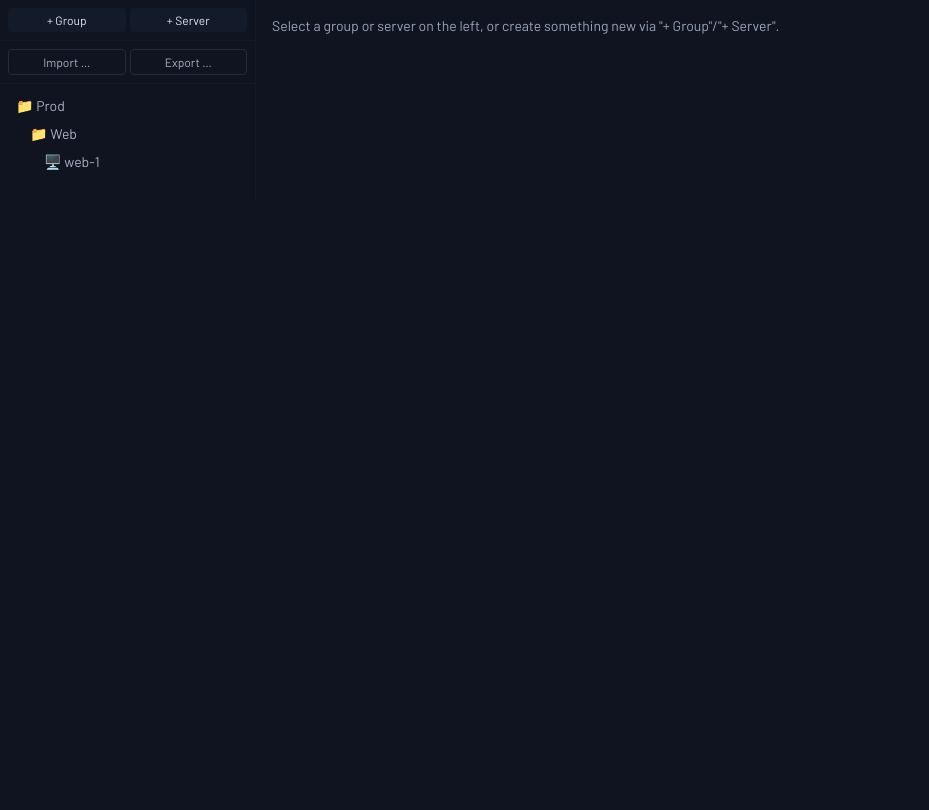
Test: ManagementView: new items in the current folder (issue #49) › + Server with a server selected preselects that server's folder
What coordinates should you click on to do the following:
click the button "🖥️ web-1"
I would click on:
 (128, 162)
Its box is [8,148,247,176].
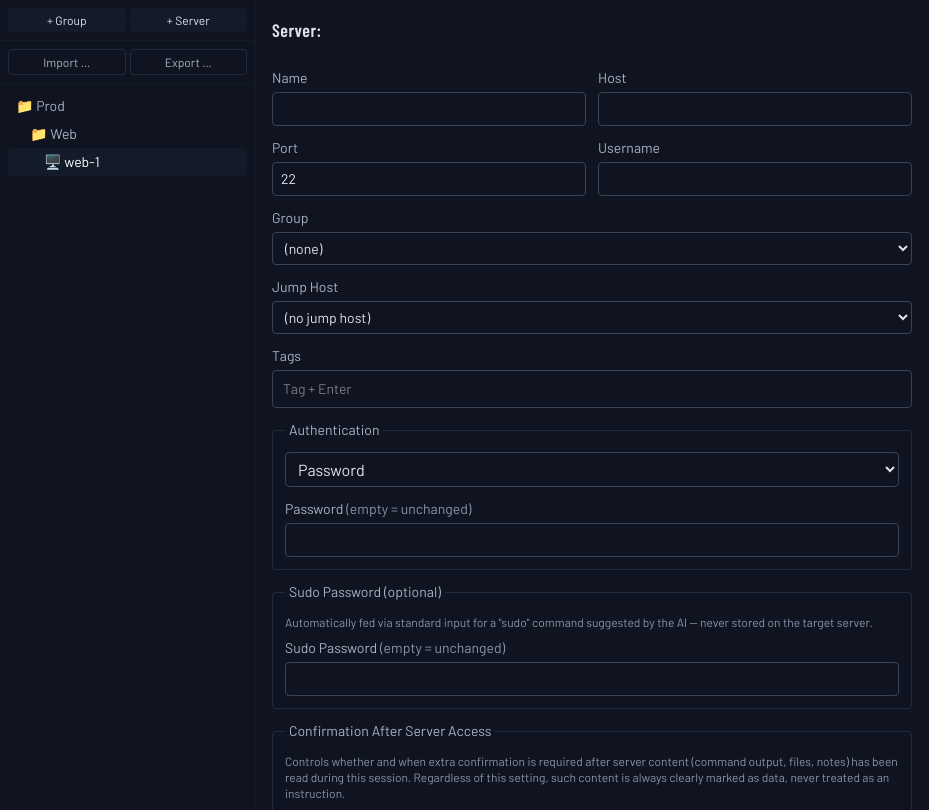
What coordinates should you click on to do the following:
click the button "+ Server"
I would click on:
 (188, 20)
Its box is [130,8,247,32].
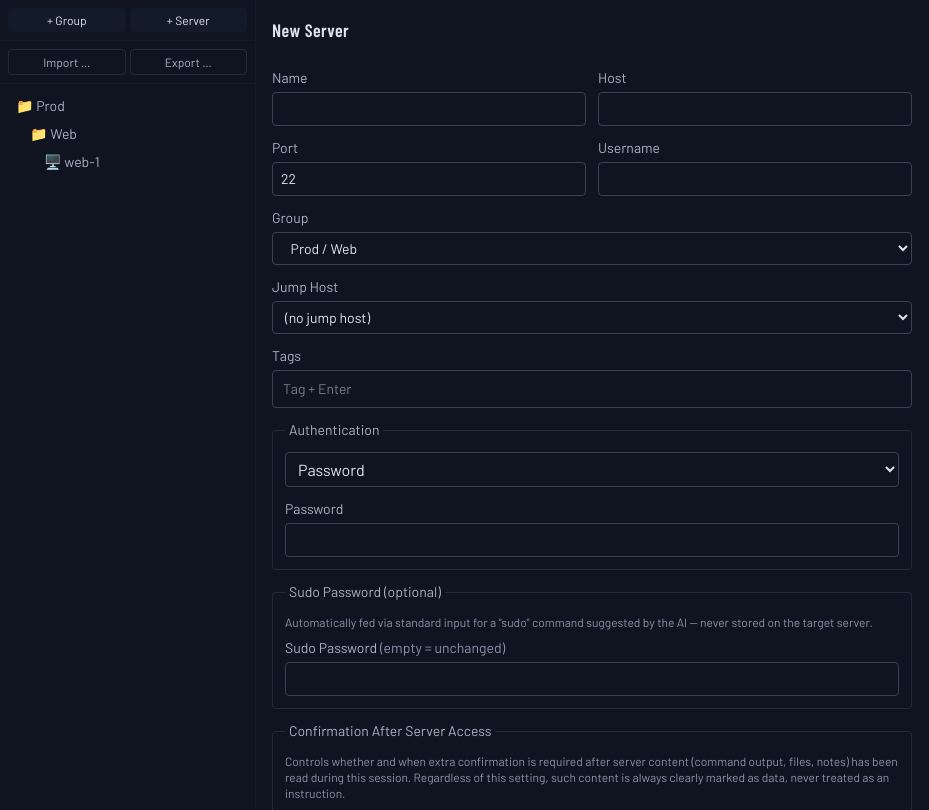
Expected: the heading "New Server" is shown, [272,19,349,41]
Expected: the dropdown labelled "Group" shows "  Prod / Web", [272,232,912,265]
